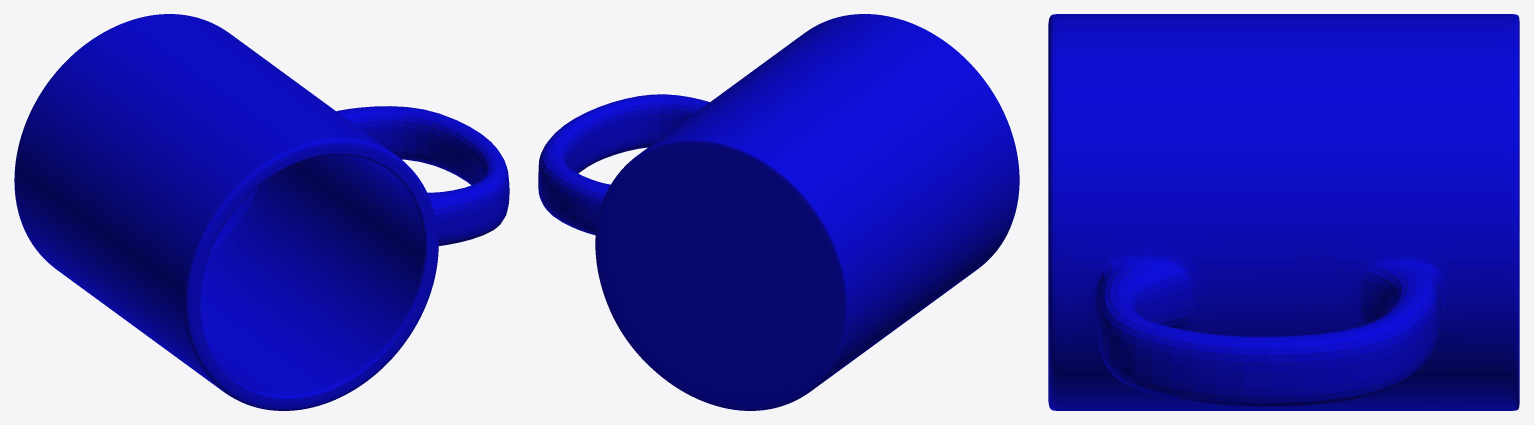
Rendered from mug.obj.
3 renders of one model, left to right at view 1: azimuth 30°, elevation 25°; view 2: azimuth 150°, elevation 25°; view 3: azimuth 270°, elevation 25°, orthographic. The views are drawn at different scales.
Bounding box in the file's own units: 0.1516 × 0.1012 × 0.1202.
